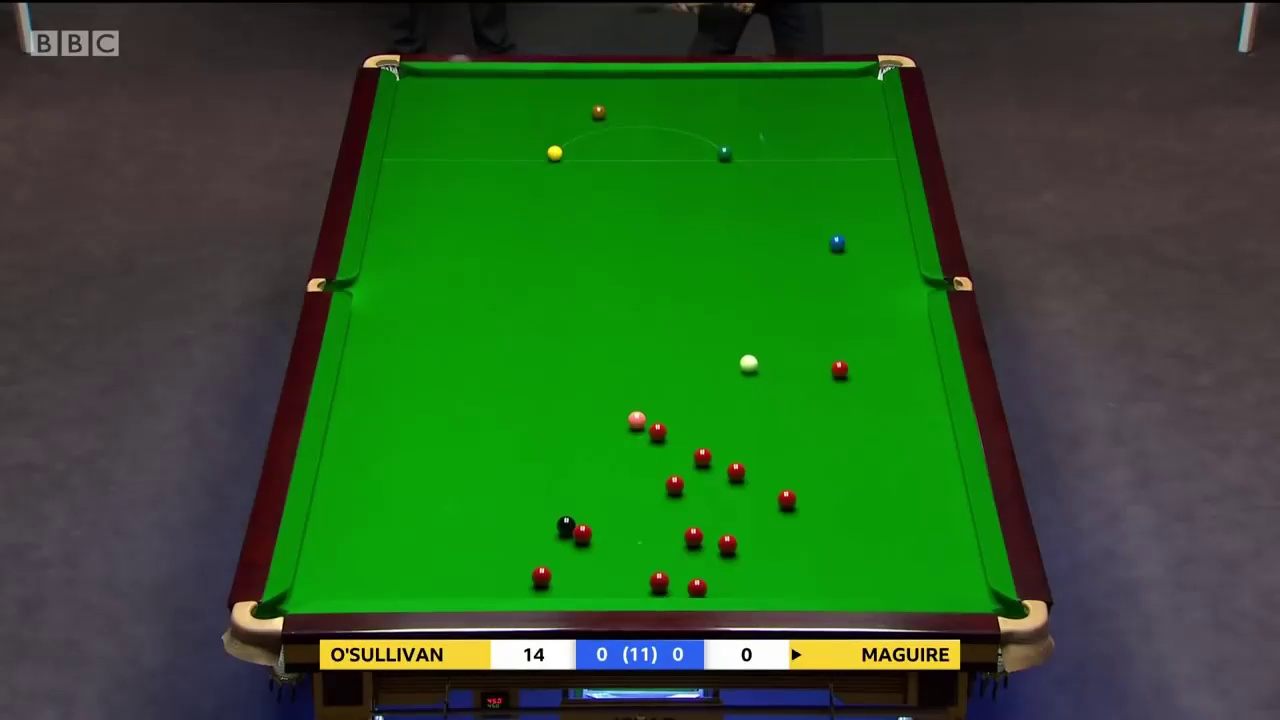ball: (716, 534, 737, 557), (737, 354, 758, 376), (778, 490, 799, 512), (692, 447, 713, 469), (649, 570, 670, 592), (726, 461, 746, 483), (626, 410, 647, 430), (530, 567, 552, 586), (830, 359, 850, 378), (828, 235, 847, 253), (666, 474, 684, 493), (574, 522, 592, 541), (683, 527, 702, 543), (546, 145, 564, 161), (589, 104, 607, 119), (649, 422, 664, 438), (717, 145, 732, 159)
